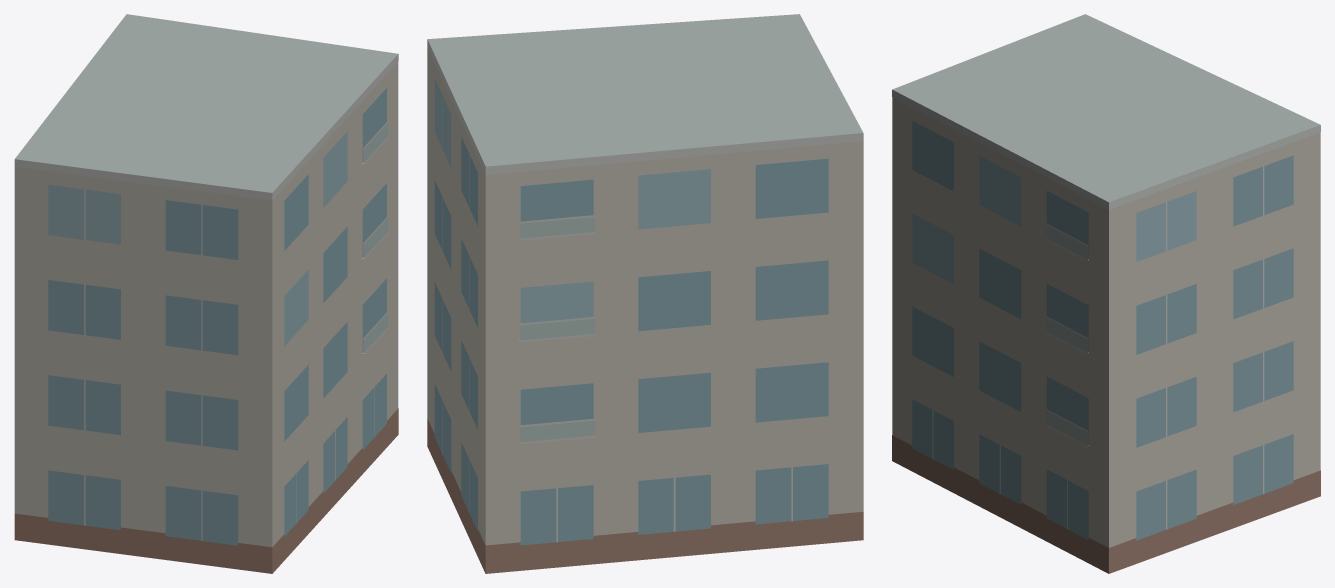
Rendered from survey-upis-32495687.glb.
3 renders of one model, left to right at view 1: azimuth 30°, elevation 25°; view 2: azimuth 150°, elevation 25°; view 3: azimuth 270°, elevation 25°, orthographic. The views are drawn at different scales.
Parts seen in each view (by area): view 1: survey-upis-32495687.tmp; view 2: survey-upis-32495687.tmp; view 3: survey-upis-32495687.tmp.
Boxes of the visible parts, x1,y1,x2,y2 form: survey-upis-32495687.tmp: [14, 14, 398, 573]; survey-upis-32495687.tmp: [427, 14, 863, 573]; survey-upis-32495687.tmp: [892, 14, 1320, 573].
Bounding box in the file's own units: 13.28 × 12.2 × 12.77.
